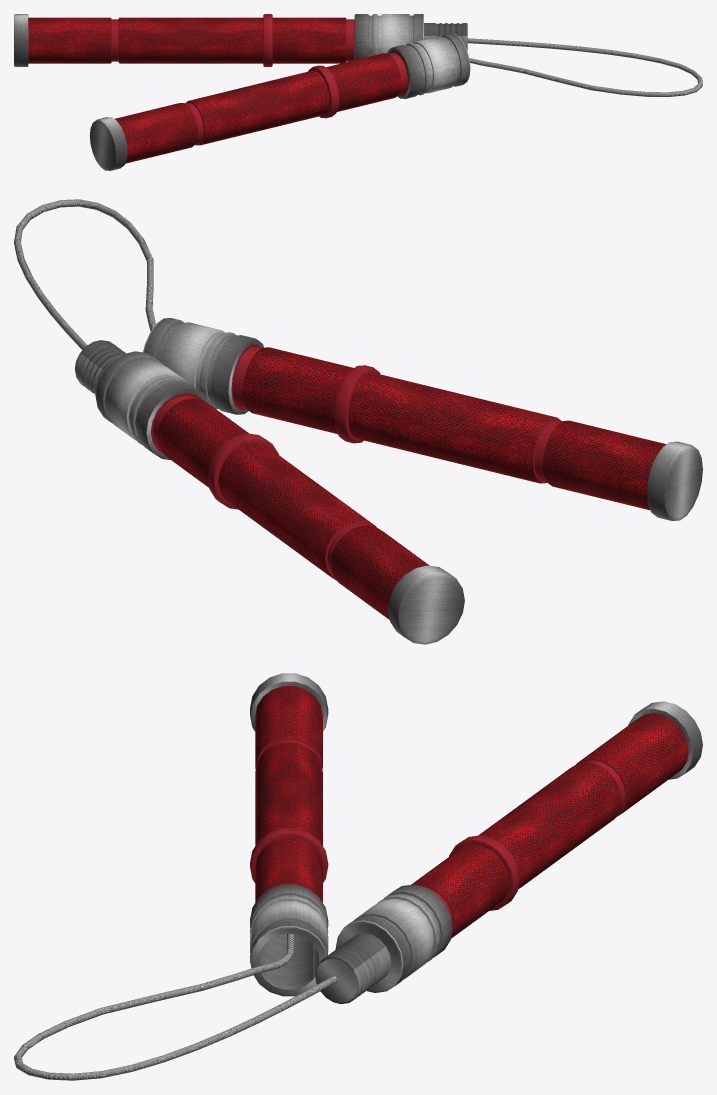
The model's file is daredevil-baton.glb.
3 views of the same model, one above another, from view 1: azimuth 30°, elevation 25°; view 2: azimuth 150°, elevation 25°; view 3: azimuth 270°, elevation 25° (orthographic). The views are drawn at different scales.
Visible parts, largest first — view 1: Baton; view 2: Baton; view 3: Baton.
Part boxes in pixels (<box>): Baton: <box>14,14,702,170</box>; Baton: <box>14,199,702,644</box>; Baton: <box>14,673,702,1080</box>.
Bounding box in the file's own units: 1688 × 148 × 1321.
3 materials, 3 textured.
